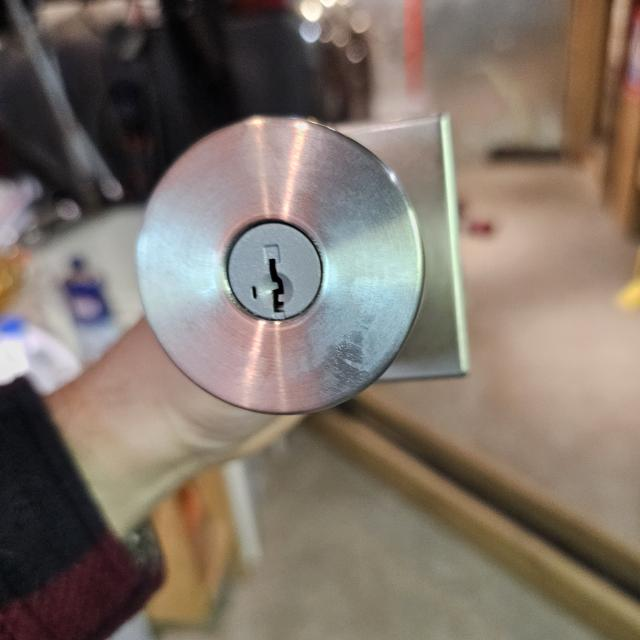door-knob: (136, 115, 469, 414)
